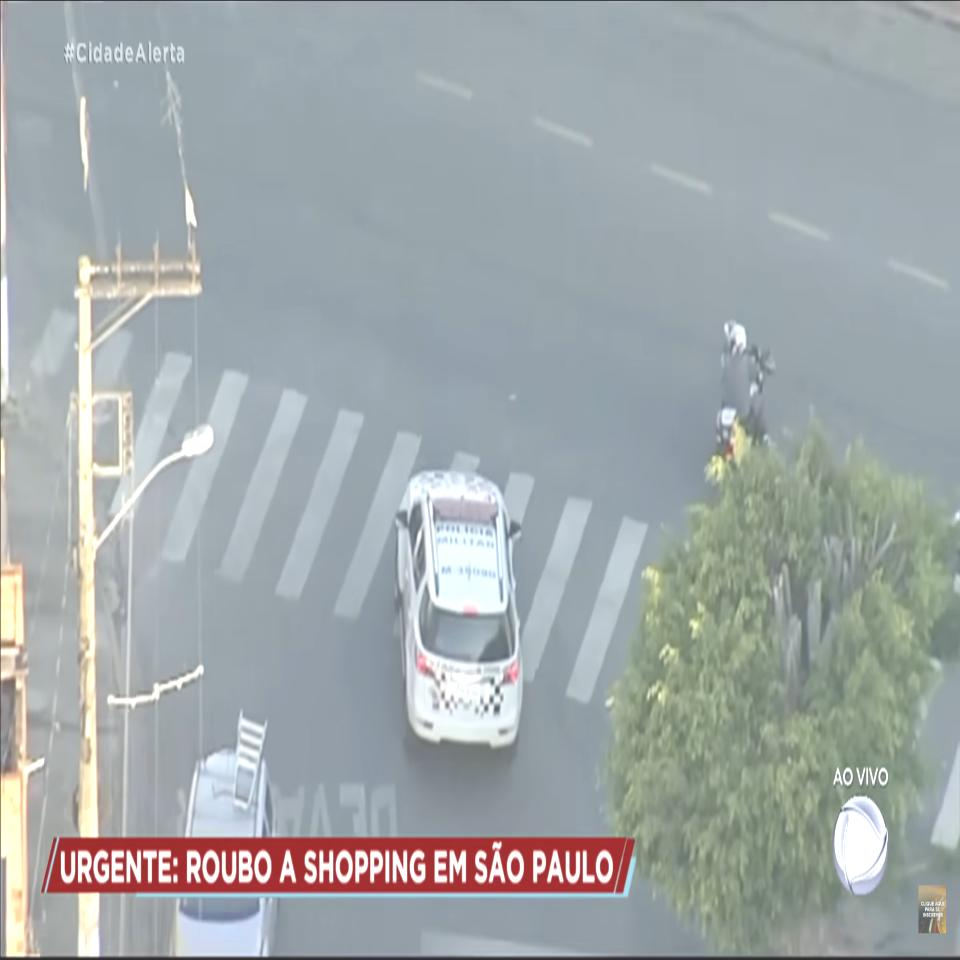viatura: (392, 467, 525, 761)
